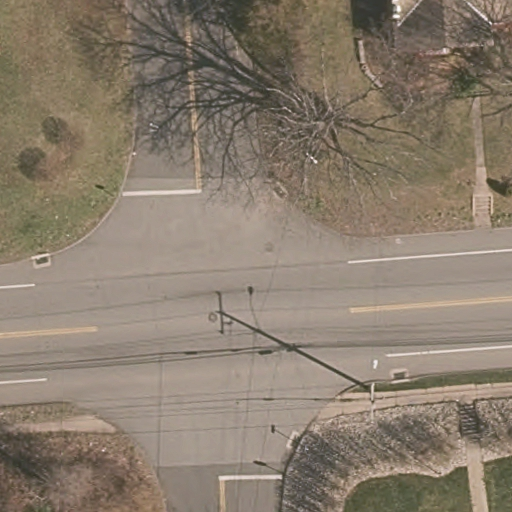DT: (355, 377, 400, 424)
